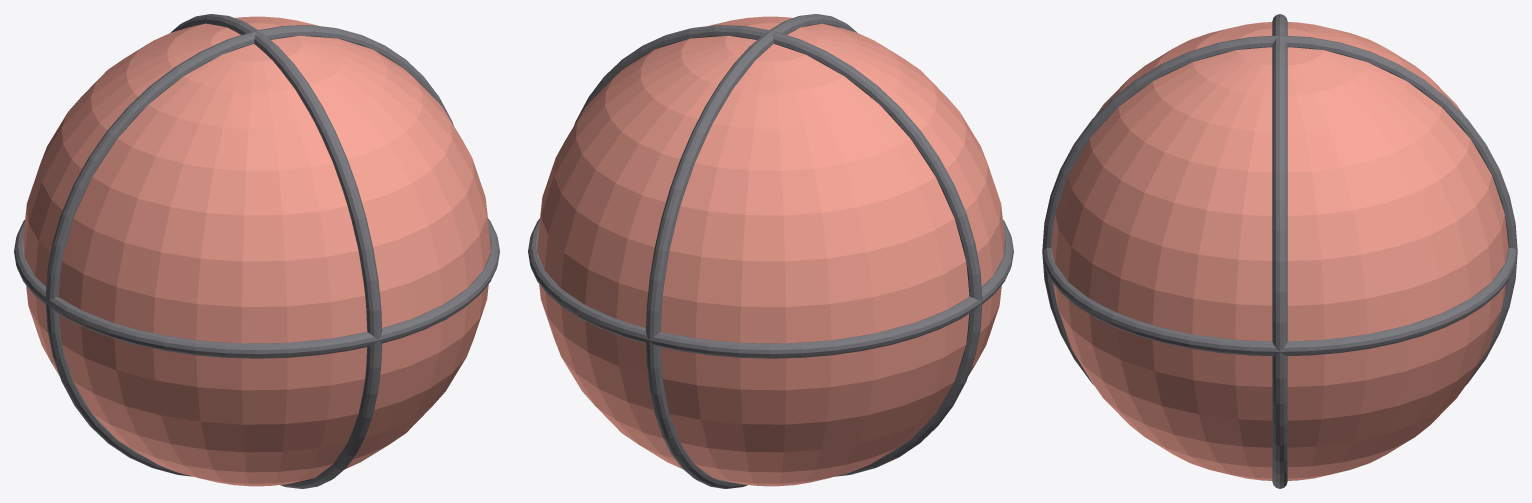
File: basketball.glb
3 renders of one model, left to right at view 1: azimuth 30°, elevation 25°; view 2: azimuth 150°, elevation 25°; view 3: azimuth 270°, elevation 25°, orthographic. The views are drawn at different scales.
Parts seen in each view (by area): view 1: Sphere, Torus.001, Torus, Torus.002; view 2: Sphere, Torus.001, Torus, Torus.002; view 3: Sphere, Torus.002, Torus, Torus.001.
Boxes of the visible parts, left/top/right/bottom form: Sphere: left=23, top=16, right=490, bottom=486; Torus.001: left=45, top=25, right=453, bottom=476; Torus: left=14, top=218, right=499, bottom=358; Torus.002: left=170, top=14, right=382, bottom=488; Sphere: left=537, top=16, right=1004, bottom=486; Torus.001: left=574, top=25, right=982, bottom=476; Torus: left=528, top=218, right=1013, bottom=358; Torus.002: left=645, top=14, right=857, bottom=488; Sphere: left=1051, top=22, right=1508, bottom=480; Torus.002: left=1042, top=35, right=1517, bottom=384; Torus: left=1042, top=247, right=1517, bottom=355; Torus.001: left=1272, top=14, right=1287, bottom=488.
Size of the model in its own units: 0.248 by 0.248 by 0.248.
